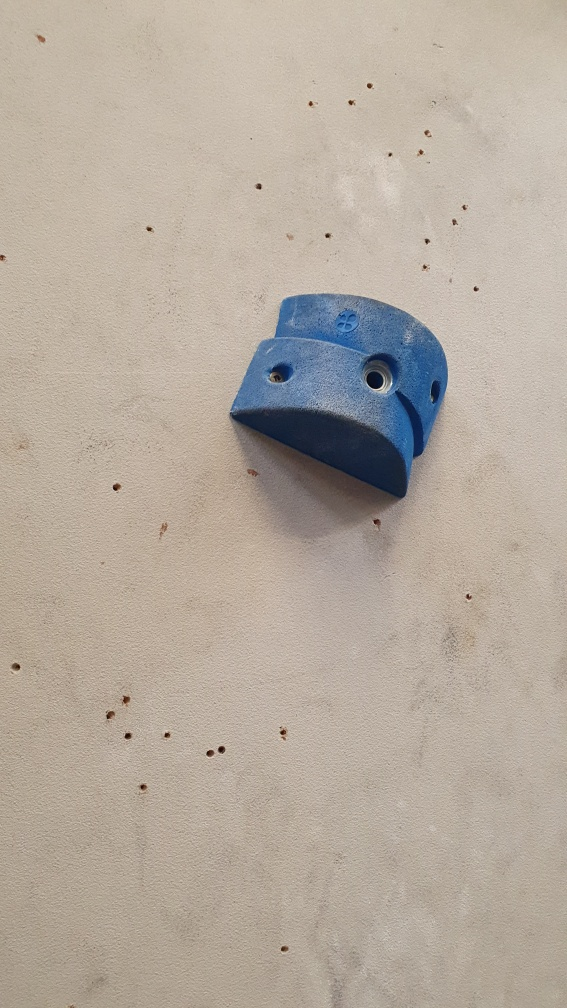Pinch: (231, 293, 448, 498)
